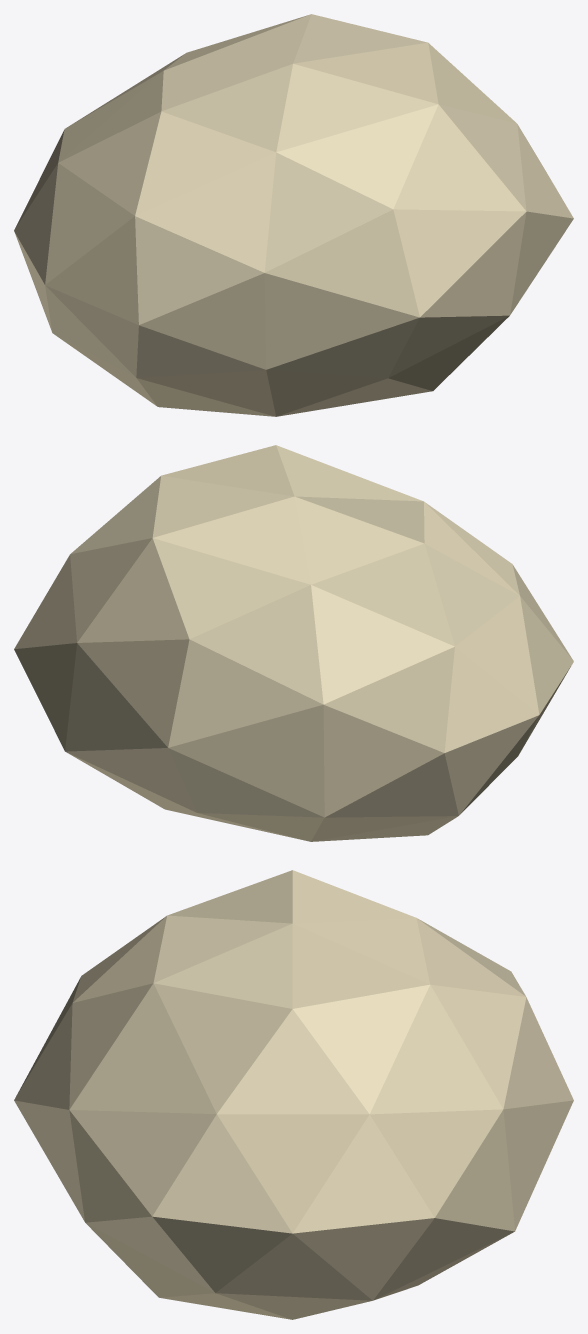
The model's file is limestone.glb.
3 renders of one model, top to bottom at view 1: azimuth 30°, elevation 25°; view 2: azimuth 150°, elevation 25°; view 3: azimuth 270°, elevation 25°, orthographic. The views are drawn at different scales.
Visible parts, largest first — view 1: limestone; view 2: limestone; view 3: limestone.
Part boxes in pixels (x1=…): limestone: x1=14, y1=14, x2=573, y2=416; limestone: x1=14, y1=445, x2=573, y2=841; limestone: x1=14, y1=870, x2=573, y2=1319.
Size of the model in its own units: 0.9087 by 0.5815 by 0.808.
